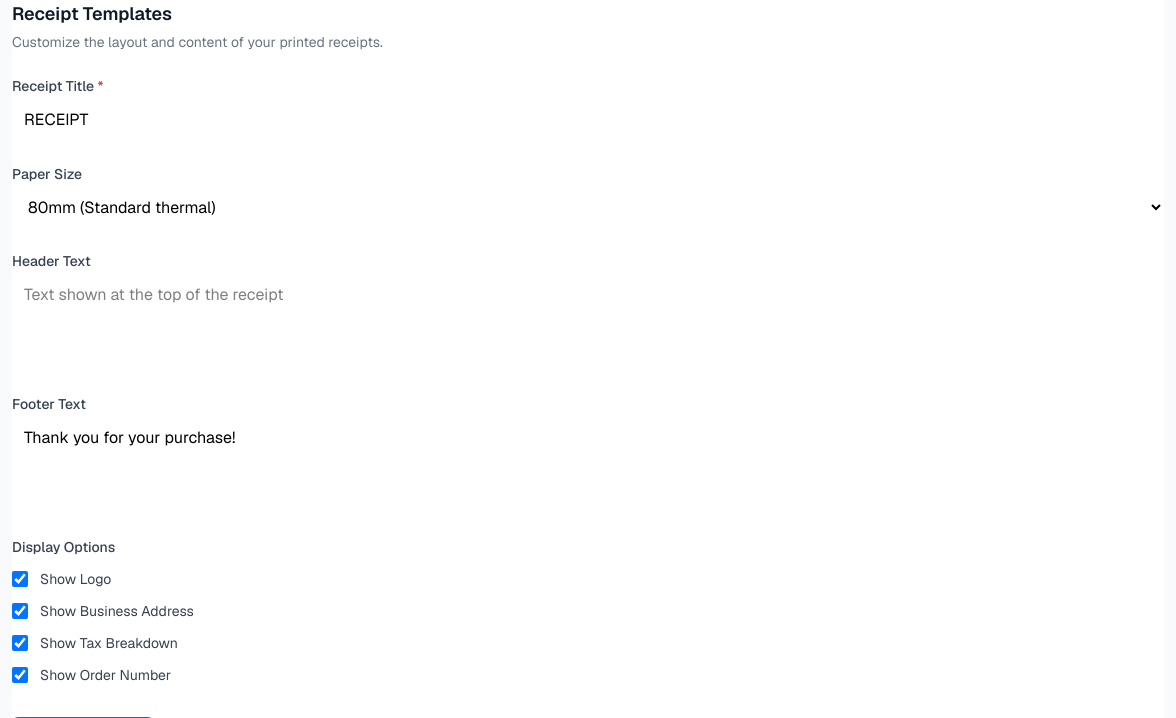
Scenario: ReceiptTemplateSettings › Preview updates when form values change › shows footer text in preview when typed
Replace the text in the text box labelled "Footer Text" with "Come back soon!" at (588, 462), box [12,418,1164,506]
(page scrolled)
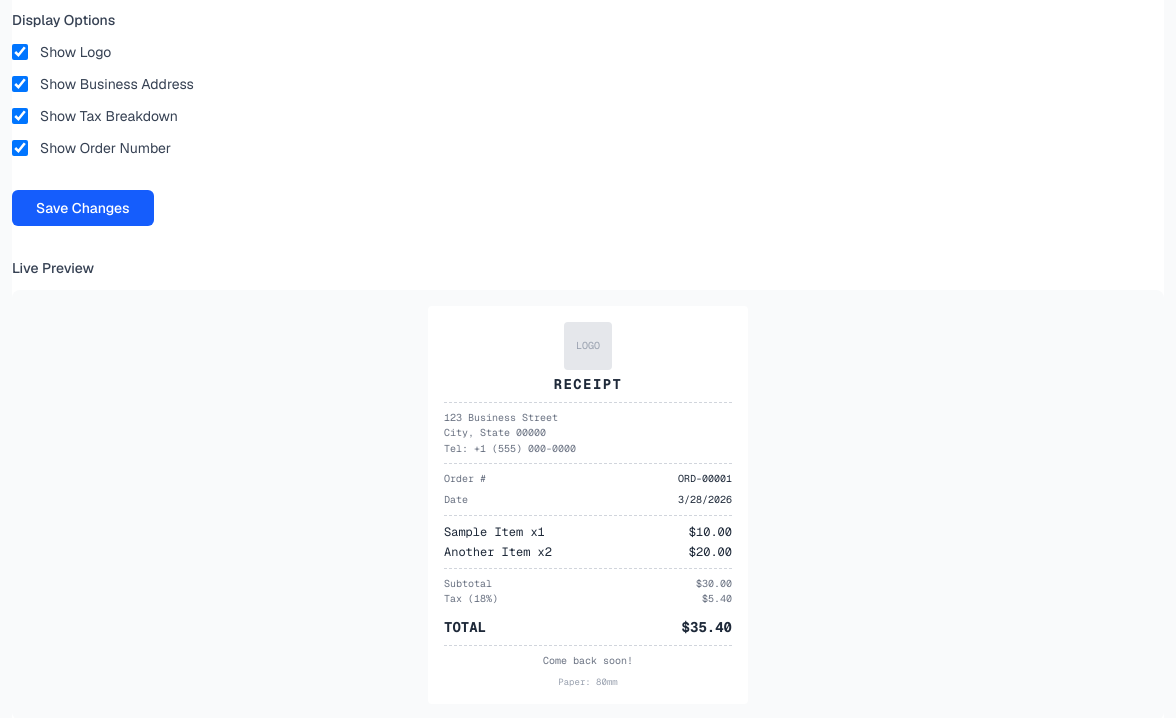
expect the text "Come back soon!" is shown: met, box [543,654,633,667]
